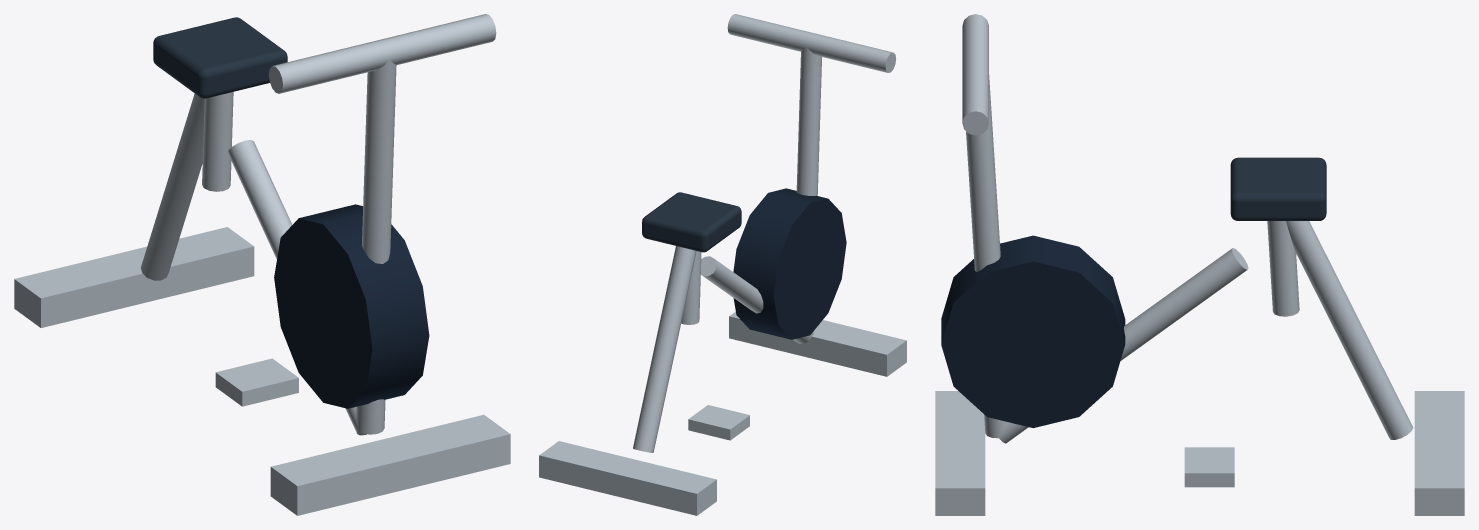
Rendered from bike.glb.
3 views of the same model, side by side, from view 1: azimuth 30°, elevation 25°; view 2: azimuth 150°, elevation 25°; view 3: azimuth 270°, elevation 25° (orthographic). The views are drawn at different scales.
Parts seen in each view (by area): view 1: base (×2), fan, frame (×2), saddle, handle, handlePost, Lpedal, saddlePost; view 2: fan, base (×2), frame (×2), saddle, handle, handlePost, Lpedal, saddlePost; view 3: fan, base (×2), frame (×2), saddle, handlePost, handle, saddlePost, Lpedal.
Part boxes in pixels (<box>): base (×2): <box>14,227,510,515</box>; fan: <box>274,204,429,408</box>; frame (×2): <box>141,93,366,435</box>; saddle: <box>153,17,287,98</box>; handle: <box>268,14,496,93</box>; handlePost: <box>356,60,396,434</box>; Lpedal: <box>215,358,298,406</box>; saddlePost: <box>202,92,233,191</box>; fan: <box>733,188,846,339</box>; base (×2): <box>539,311,906,515</box>; frame (×2): <box>633,246,811,452</box>; saddle: <box>642,192,741,252</box>; handle: <box>727,14,895,72</box>; handlePost: <box>796,47,821,335</box>; Lpedal: <box>688,405,749,440</box>; saddlePost: <box>681,251,701,324</box>; fan: <box>941,235,1125,428</box>; base (×2): <box>935,391,1464,515</box>; frame (×2): <box>999,221,1413,443</box>; saddle: <box>1230,157,1326,220</box>; handlePost: <box>966,75,1005,438</box>; handle: <box>962,14,988,135</box>; saddlePost: <box>1267,221,1299,316</box>; Lpedal: <box>1184,447,1234,487</box>.
Bounding box in the file's own units: 0.6 × 1.18 × 1.38.
